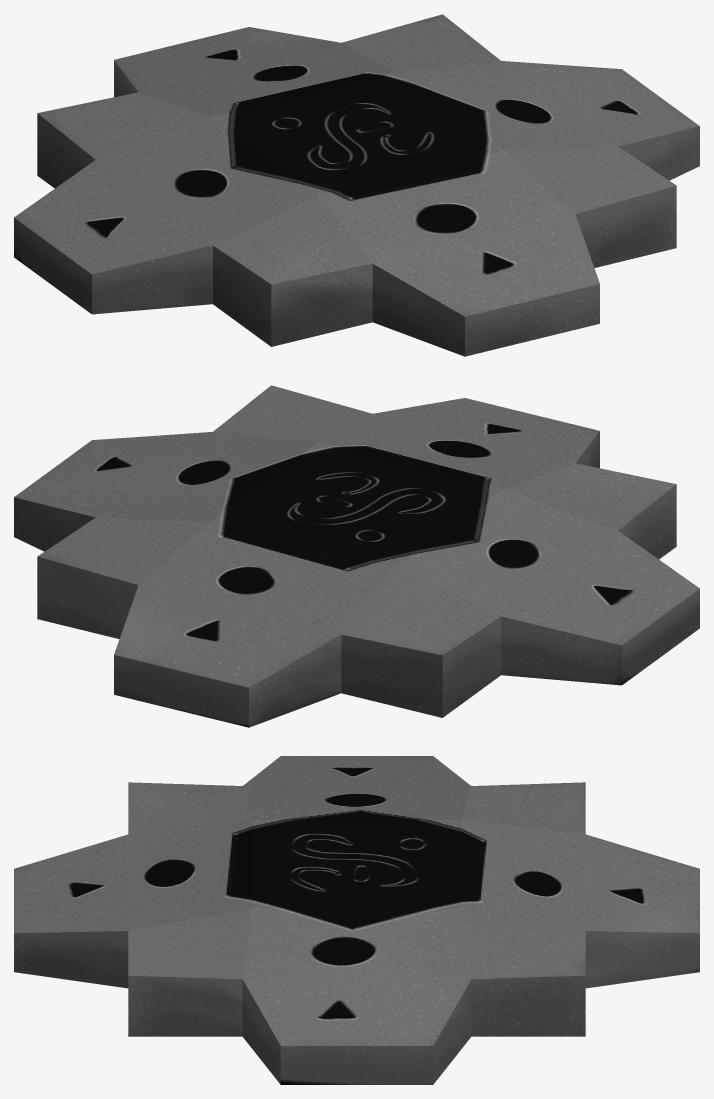
Rendered from PlacaTeleporte.fbx.
3 renders of one model, top to bottom at view 1: azimuth 30°, elevation 25°; view 2: azimuth 150°, elevation 25°; view 3: azimuth 270°, elevation 25°, orthographic. The views are drawn at different scales.
Visible parts, largest first — view 1: PlacaTeleporte; view 2: PlacaTeleporte; view 3: PlacaTeleporte.
Part boxes in pixels (bbox=[...]): PlacaTeleporte: bbox=[14, 14, 699, 356]; PlacaTeleporte: bbox=[14, 385, 699, 727]; PlacaTeleporte: bbox=[14, 756, 699, 1084].
Bounding box in the file's own units: 300 × 36.73 × 300.
